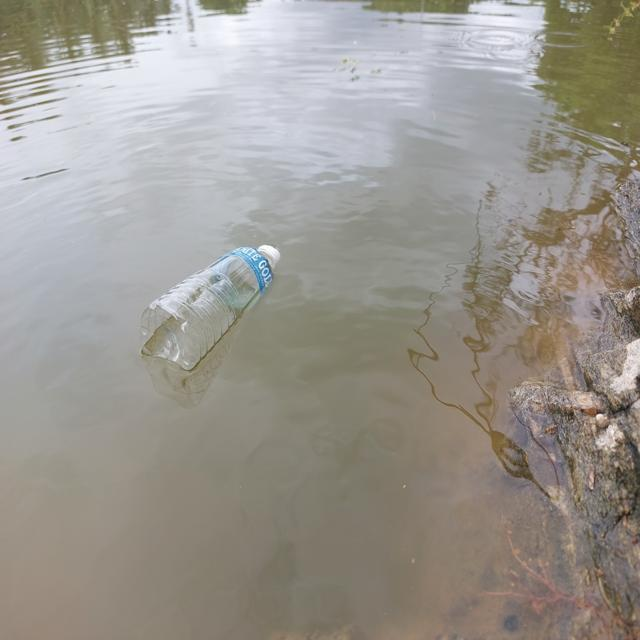waterbottle: (140, 238, 290, 368)
